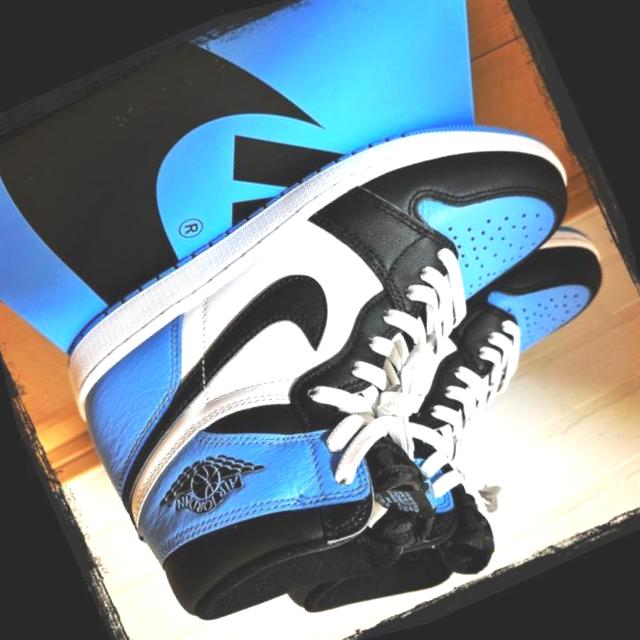nike_original_jordan: (9, 60, 640, 640), (164, 207, 640, 640)
